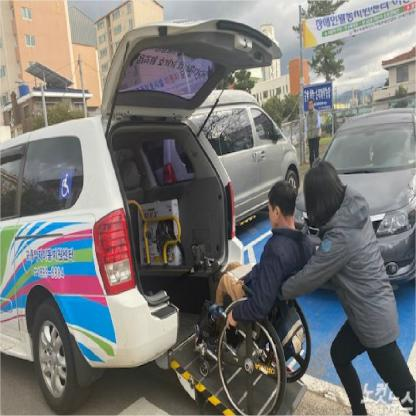wheelchair: (194, 181, 313, 415)
